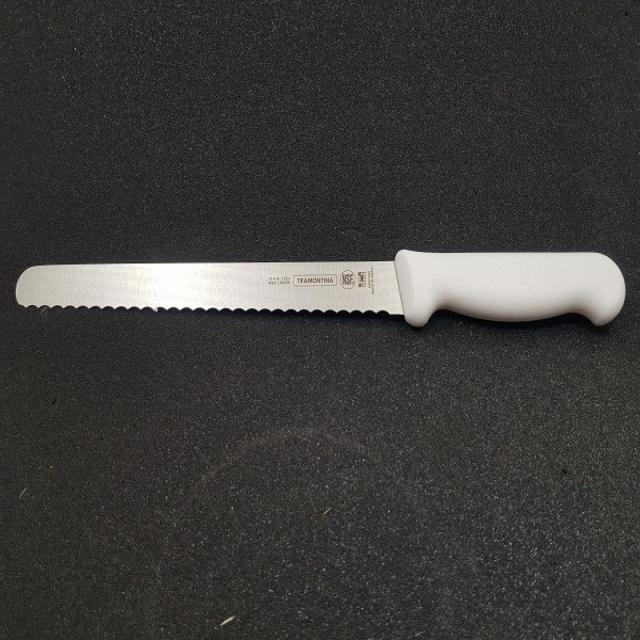Knife: (15, 250, 625, 326)
